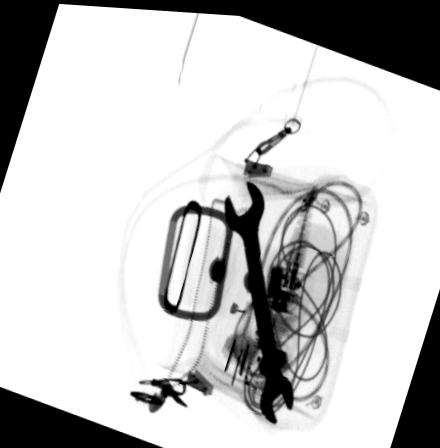Wrench: (221, 173, 294, 422)
